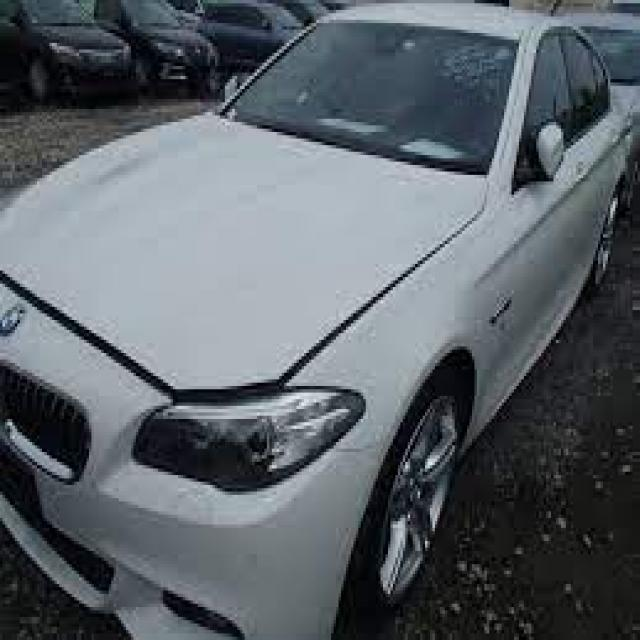minor: (0, 169, 498, 419)
